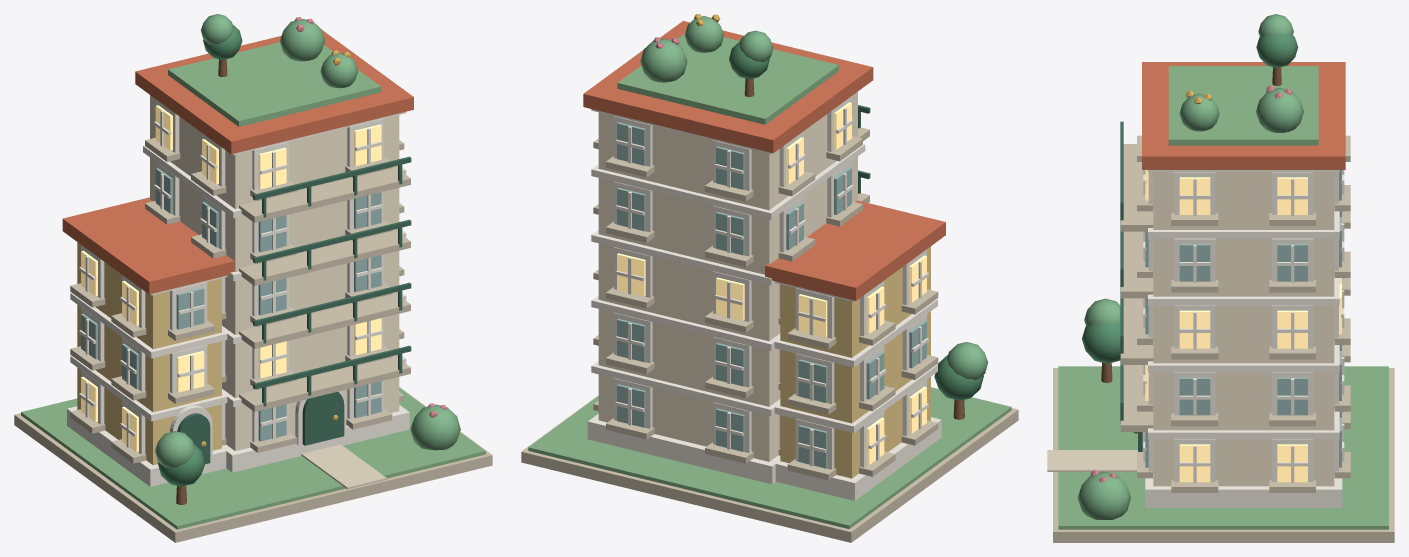
File: edificio.glb
The picture shows the model from 3 angles, left to right: view 1: azimuth 30°, elevation 25°; view 2: azimuth 150°, elevation 25°; view 3: azimuth 270°, elevation 25°; orthographic projection. The views are drawn at different scales.
Parts seen in each view (by area): view 1: edificio_stone, edificio_white, edificio_lawn, edificio_cream, edificio_coral, edificio_yellow, edificio_green, edificio_glass, edificio_glassLight, edificio_leafLight, edificio_path, edificio_leaf; view 2: edificio_white, edificio_cream, edificio_lawn, edificio_stone, edificio_coral, edificio_glass, edificio_yellow, edificio_glassLight, edificio_leafLight, edificio_leaf; view 3: edificio_cream, edificio_lawn, edificio_white, edificio_stone, edificio_coral, edificio_glassLight, edificio_leafLight, edificio_glass, edificio_leaf, edificio_path, edificio_green.
Boxes of the visible parts, x1,y1,x2,y2 form: edificio_stone: (14,137,492,542); edificio_white: (67,99,409,486); edificio_lawn: (21,42,485,529); edificio_cream: (150,95,399,450); edificio_coral: (62,30,413,294); edificio_yellow: (77,242,221,465); edificio_green: (177,156,411,464); edificio_glass: (81,168,381,441); edificio_glassLight: (81,105,381,452); edificio_leafLight: (155,14,460,467); edificio_path: (301,444,386,489); edificio_leaf: (157,24,242,486); edificio_white: (587,96,941,500); edificio_cream: (598,91,857,461); edificio_lawn: (528,33,1011,528); edificio_stone: (521,127,1018,542); edificio_coral: (583,21,945,300); edificio_glass: (617,122,926,468); edificio_yellow: (780,246,930,478); edificio_glassLight: (617,102,926,464); edificio_leafLight: (640,16,987,379); edificio_leaf: (729,41,983,400); edificio_cream: (1153,172,1334,486); edificio_lawn: (1058,66,1388,529); edificio_white: (1142,170,1344,507); edificio_stone: (1053,135,1394,542); edificio_coral: (1142,62,1345,169); edificio_glassLight: (1145,170,1341,482); edificio_leafLight: (1077,14,1303,519); edificio_glass: (1145,170,1341,467); edificio_leaf: (1082,34,1298,363); edificio_path: (1047,450,1137,471); edificio_green: (1120,121,1142,451).
Bounding box in the file's own units: 2.9 × 3.62 × 2.59.
